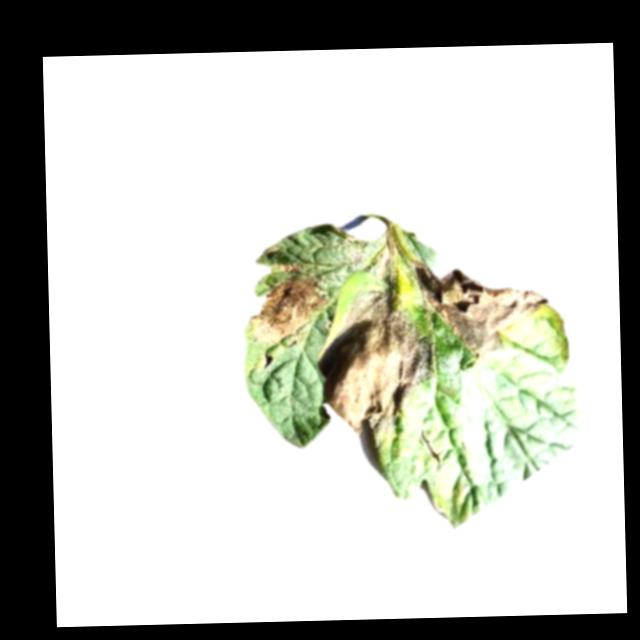Late_blight: (315, 287, 435, 445), (413, 259, 550, 361), (248, 277, 331, 347), (376, 241, 396, 279), (275, 263, 307, 276)
